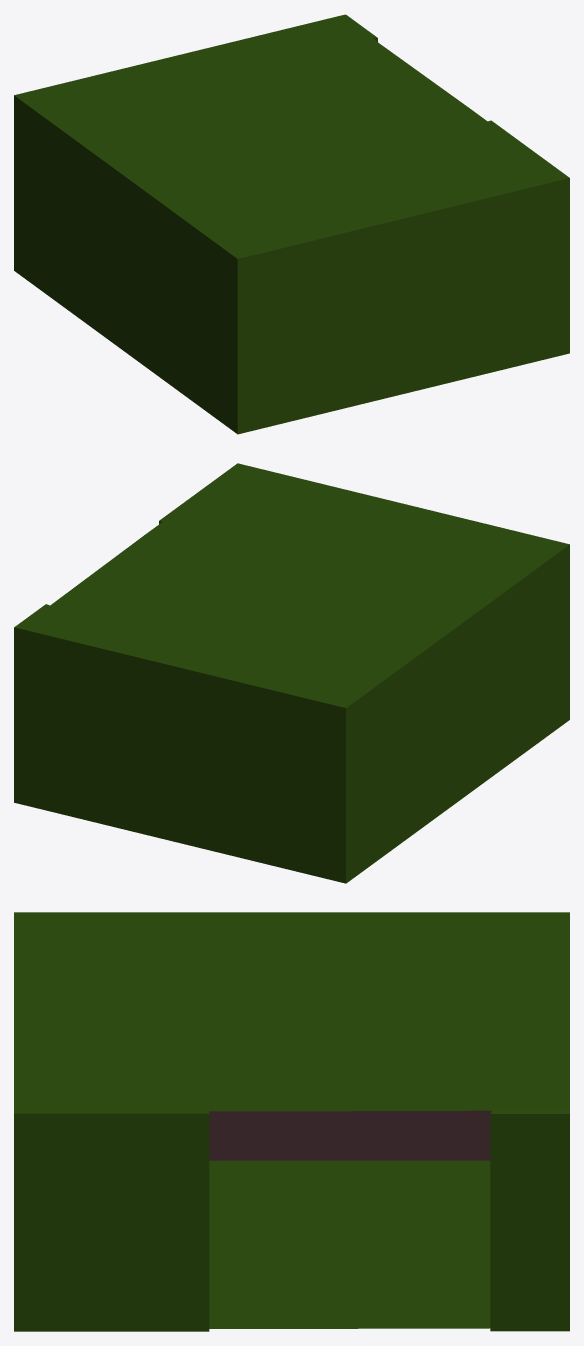
File: lapr5.fbx
3 renders of one model, top to bottom at view 1: azimuth 30°, elevation 25°; view 2: azimuth 150°, elevation 25°; view 3: azimuth 270°, elevation 25°, orthographic. The views are drawn at different scales.
Parts seen in each view (by area): view 1: pCube9; view 2: pCube9; view 3: pCube9.
Boxes of the visible parts, x1,y1,x2,y2 form: pCube9: [14, 14, 569, 434]; pCube9: [14, 463, 569, 883]; pCube9: [14, 912, 569, 1331].
Size of the model in its own units: 600 by 303 by 700.
